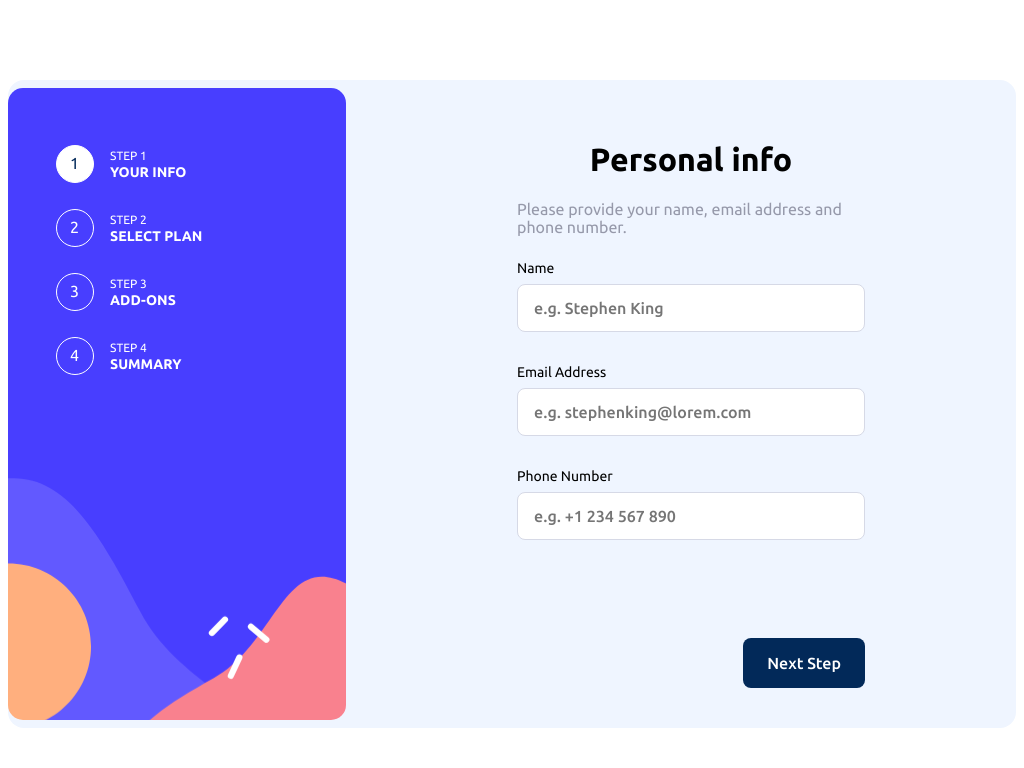
Error messages are shown on empty name input
The width and height of the screenshot is (1024, 768).
Click the field labelled "Name" at (691, 308), box [517, 284, 865, 332]
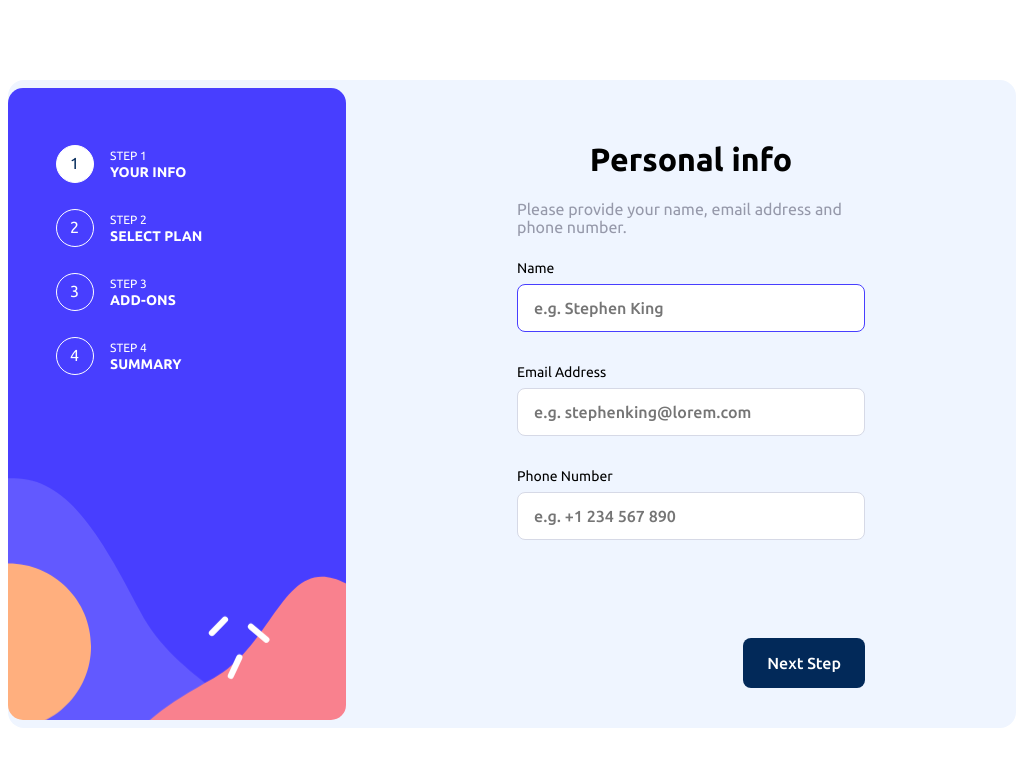
Press Tab
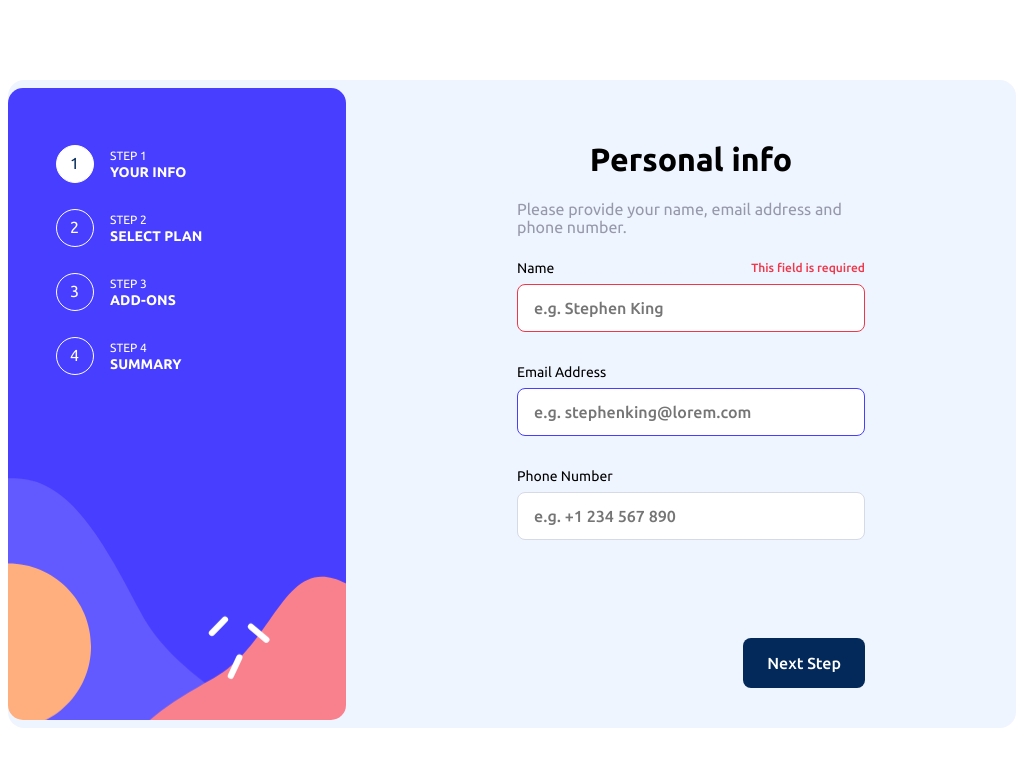
Expected: the text with class "error-label" reads "This field is required", [751, 261, 865, 274]
